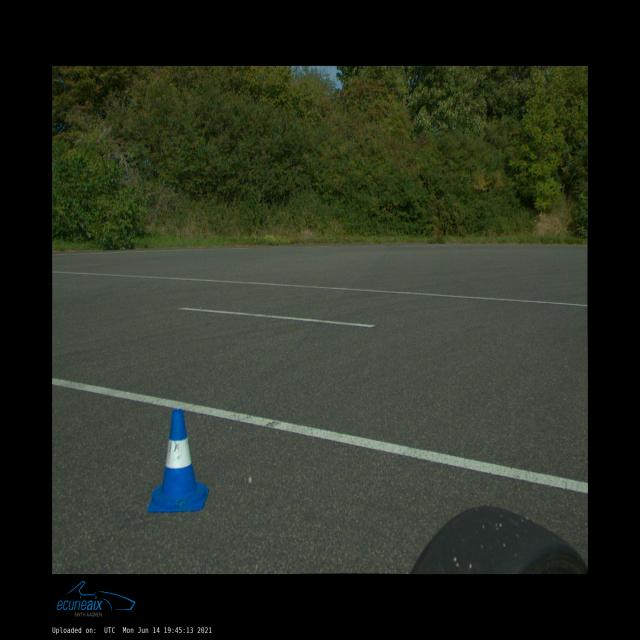blue_cone: (148, 408, 209, 512)
